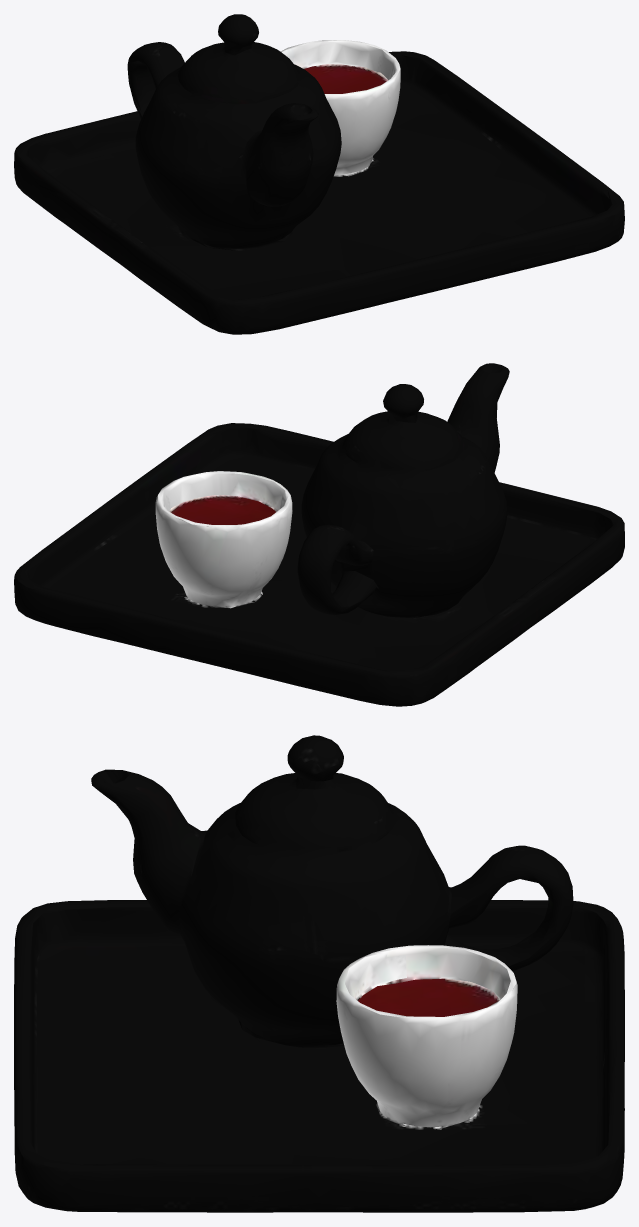
File: teaset.glb
3 views of the same model, one above another, from view 1: azimuth 30°, elevation 25°; view 2: azimuth 150°, elevation 25°; view 3: azimuth 270°, elevation 25° (orthographic). The views are drawn at different scales.
Visible parts, largest first — view 1: teaset; view 2: teaset; view 3: teaset.
Part boxes in pixels (x1,y1,x2,y2): teaset: (14,14,624,334); teaset: (14,363,624,706); teaset: (14,735,624,1212).
Size of the model in its own units: 0.3229 by 0.16 by 0.3065.
1 material, 1 textured.
